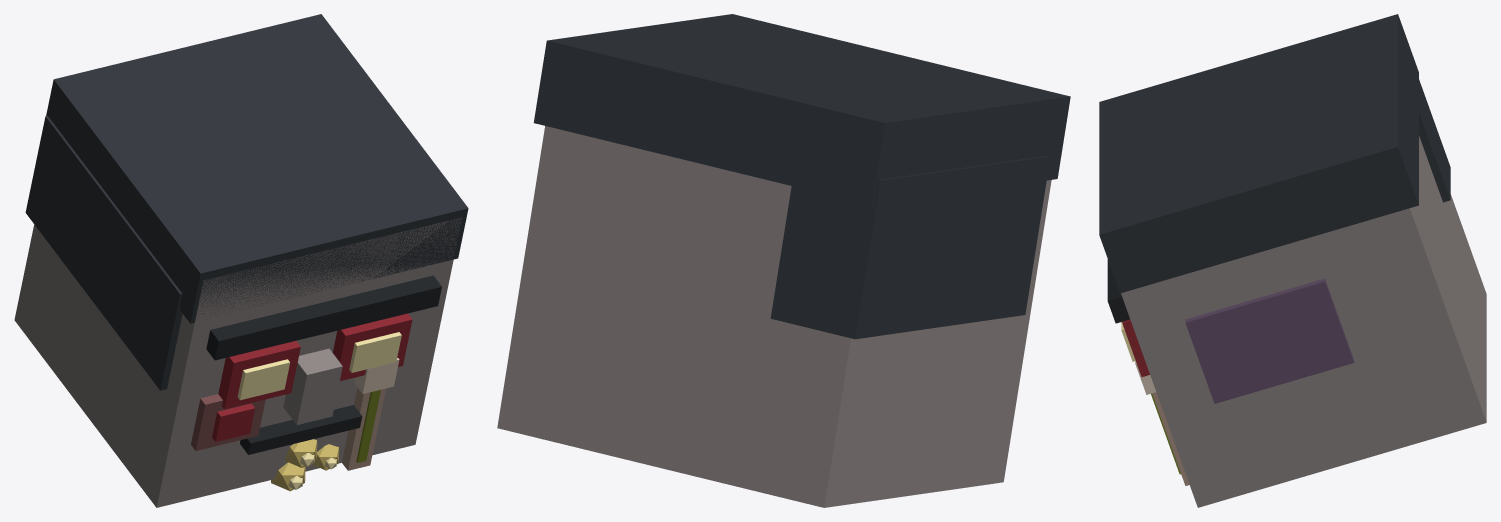
The model's file is inf_walker_head.fbx.
3 views of the same model, side by side, from view 1: azimuth 30°, elevation 25°; view 2: azimuth 150°, elevation 25°; view 3: azimuth 270°, elevation 25° (orthographic). The views are drawn at different scales.
Visible parts, largest first — view 1: inf_walker_head; view 2: inf_walker_head; view 3: inf_walker_head.
Boxes of the visible parts, x1,y1,x2,y2 form: inf_walker_head: [14, 14, 468, 507]; inf_walker_head: [497, 14, 1070, 507]; inf_walker_head: [1099, 14, 1486, 507].
Bounding box in the file's own units: 122 × 160 × 148.
